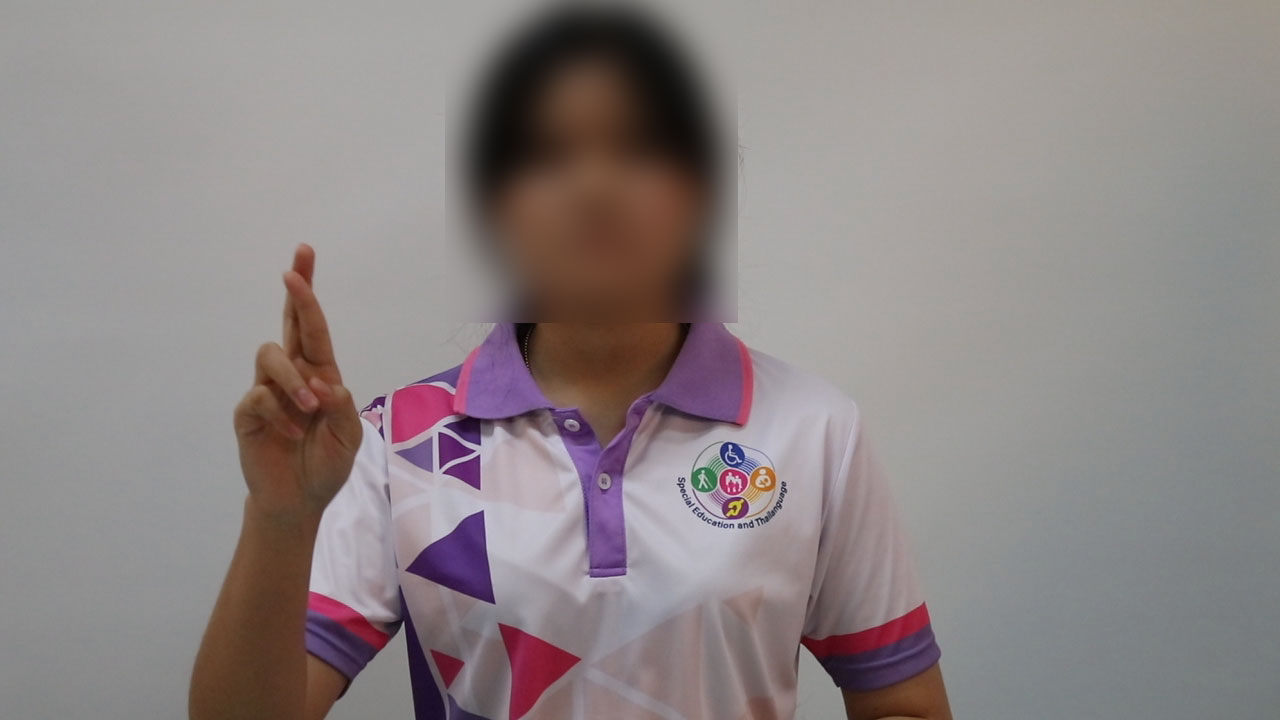rao: (215, 238, 375, 517)
